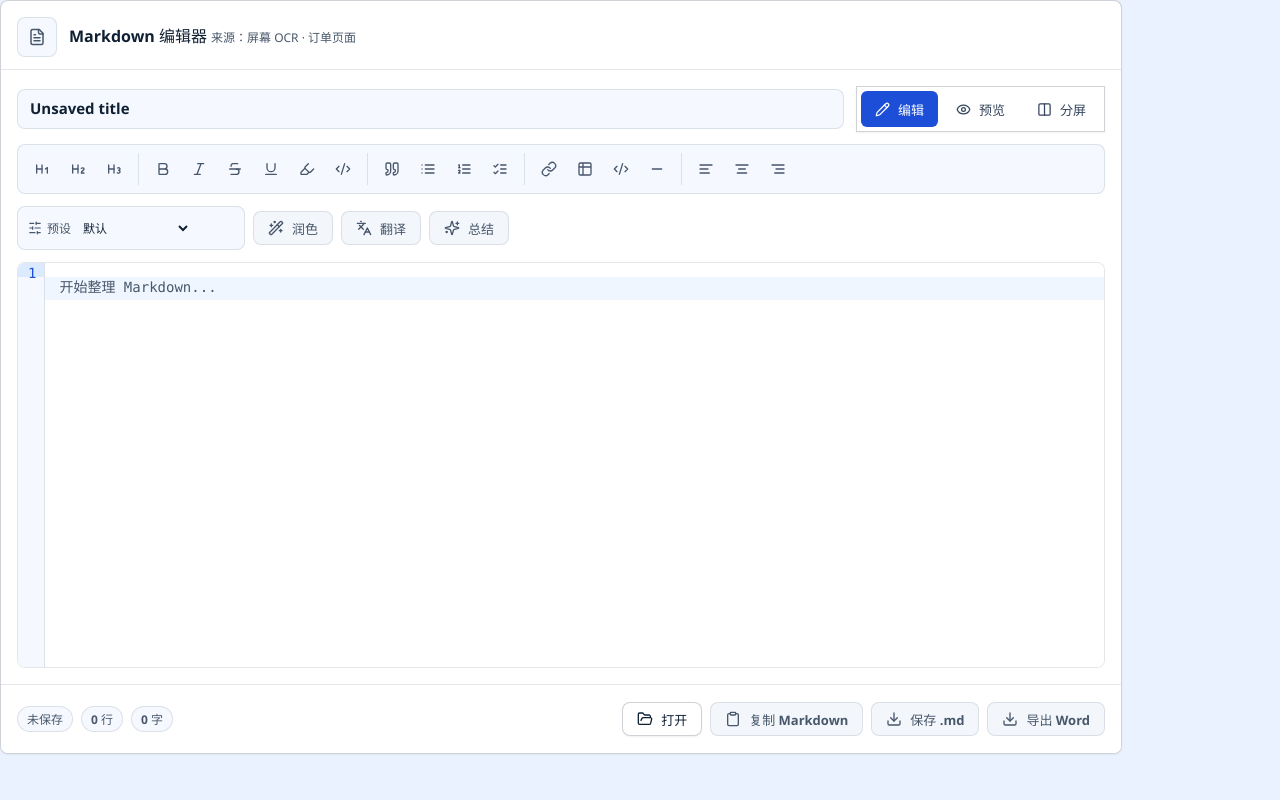
Test case: MarkdownEditorShell › confirms before replacing a dirty empty draft
The image size is (1280, 800).
Click the button with aria-label "打开 Markdown 文件".
click(662, 719)  # box top-left (622, 702), bottom-right (702, 736)
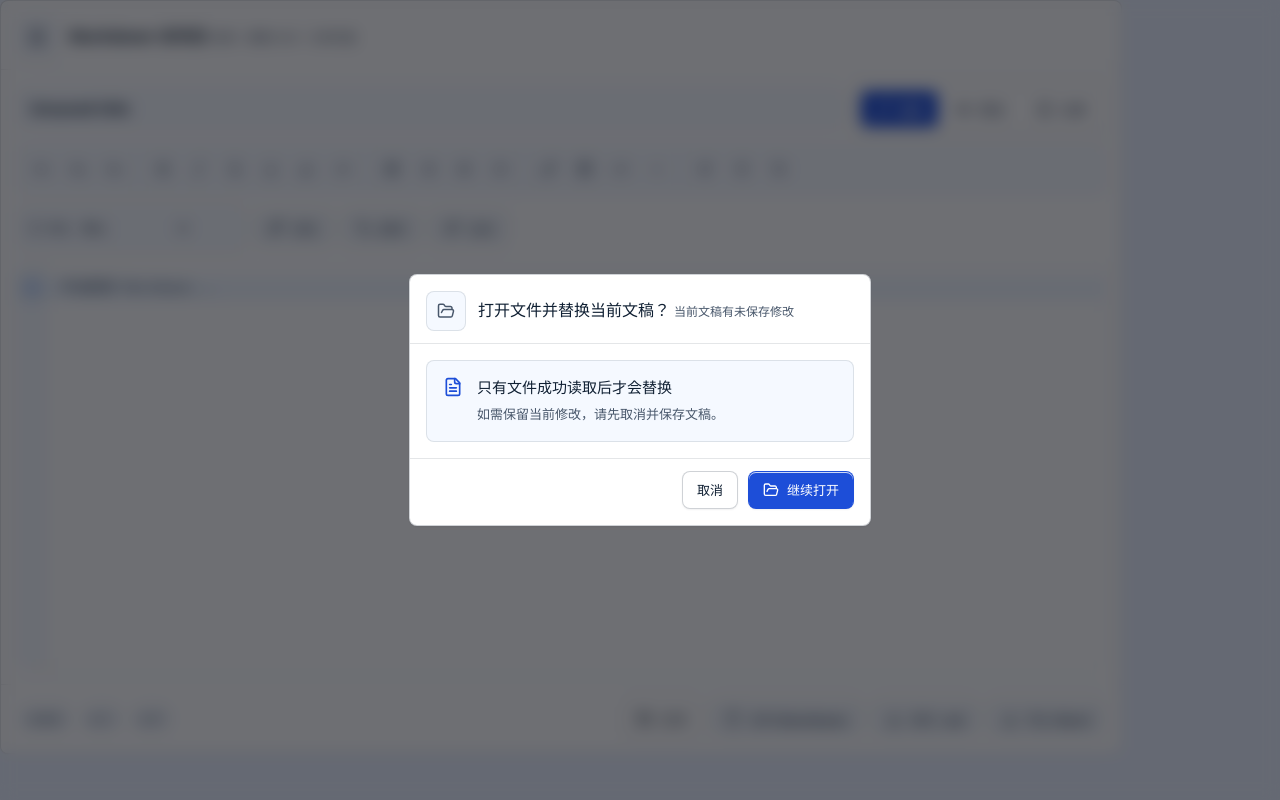
Now the dialog "打开文件并替换当前文稿？" is shown, box top-left (409, 274), bottom-right (871, 526)
